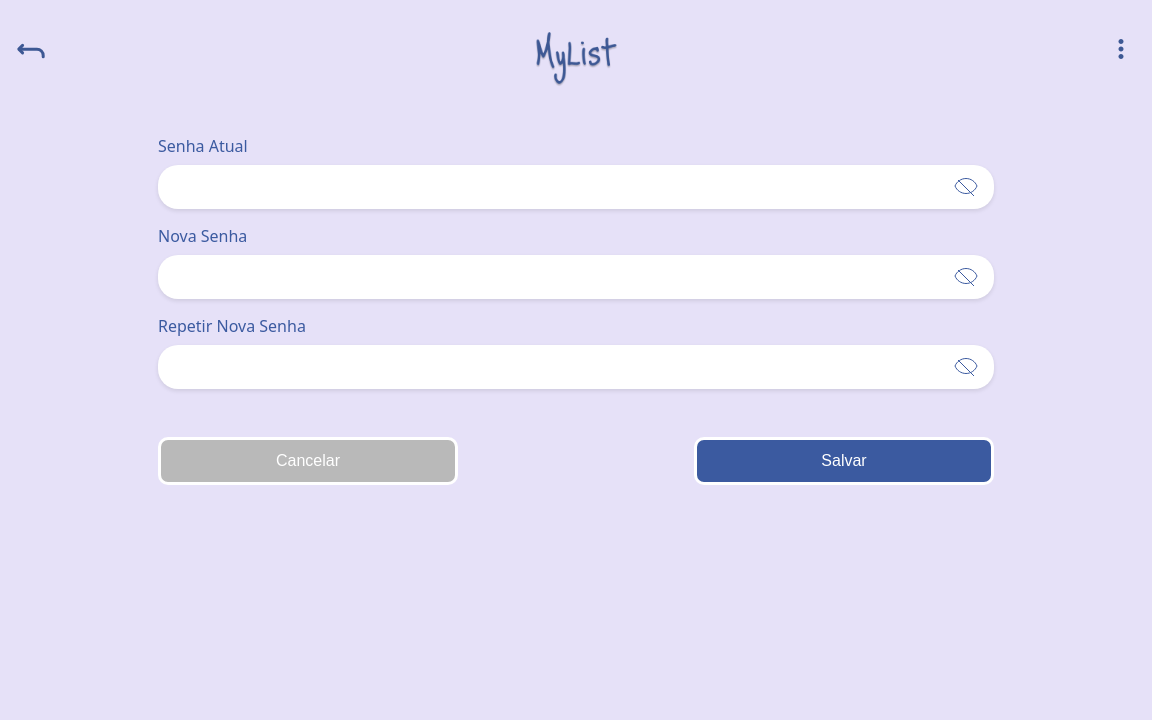
Test: ChangePasswordPage › shows success message on successful password change
Step 1. Type "oldpass" into the password field labelled "Senha Atual" → (576, 187), box [158, 165, 994, 209]
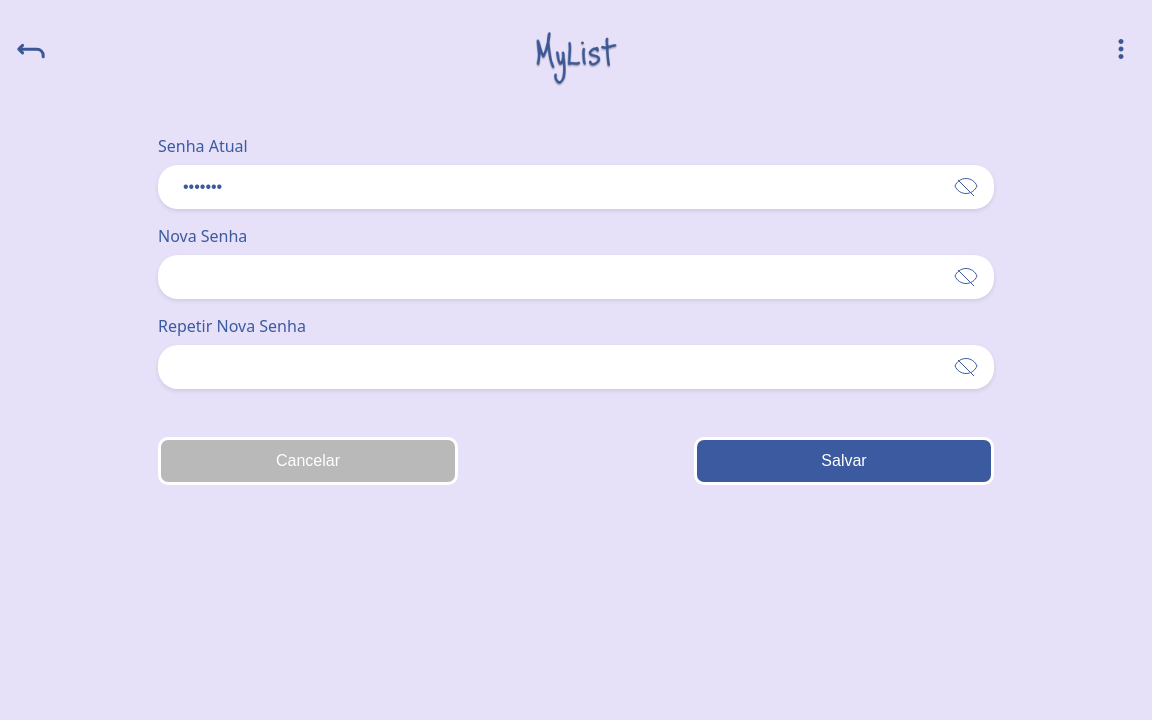
Step 2. Type "newpass" into the password field labelled "Nova Senha" → (576, 277), box [158, 255, 994, 299]
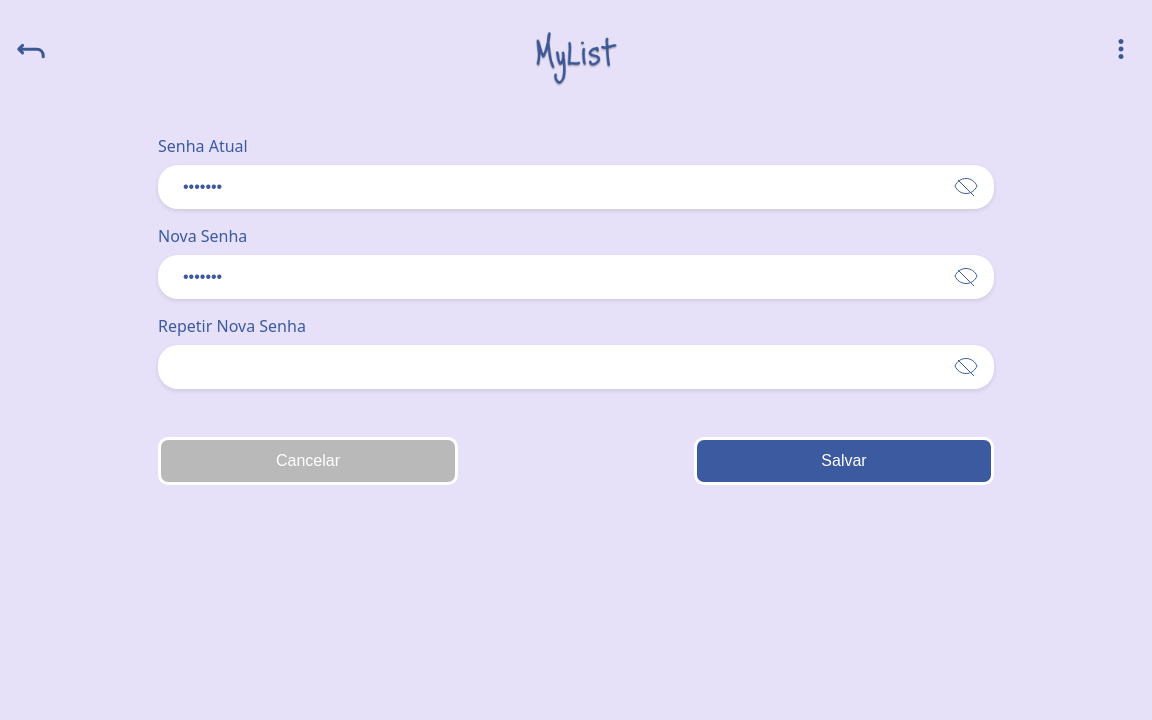
Step 3. Type "newpass" into the password field labelled "Repetir Nova Senha" → (576, 367), box [158, 345, 994, 389]
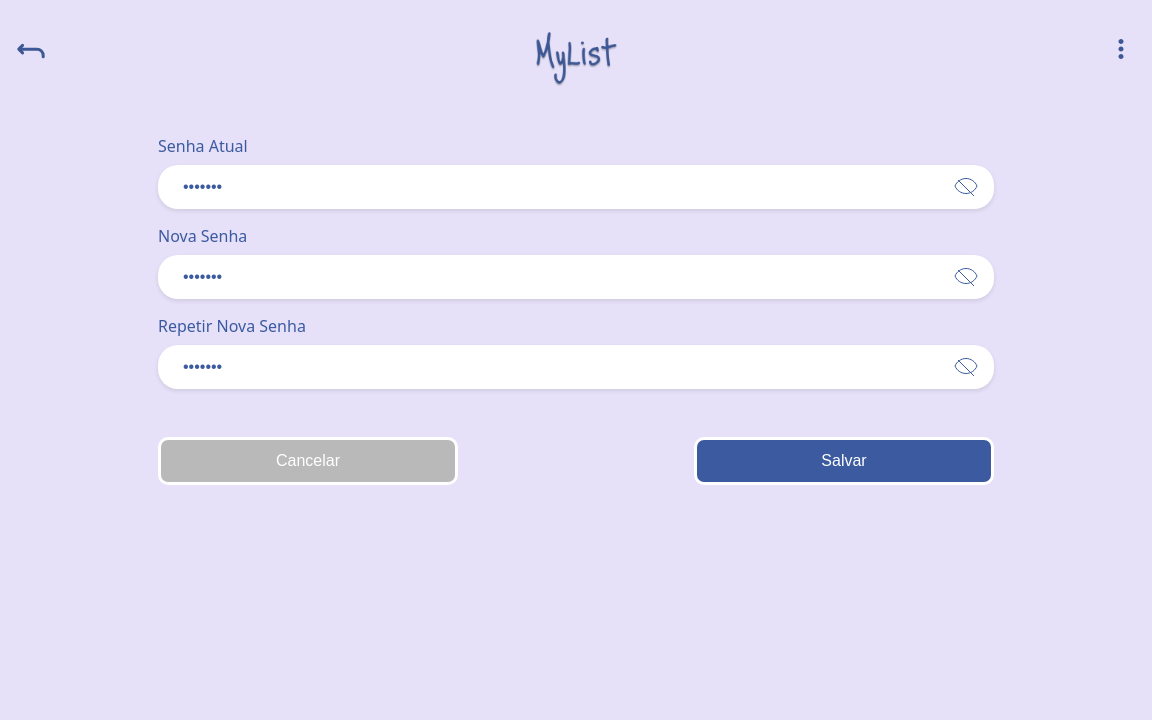
Step 4. Click the button "Salvar" → click(844, 461), box [694, 437, 994, 485]
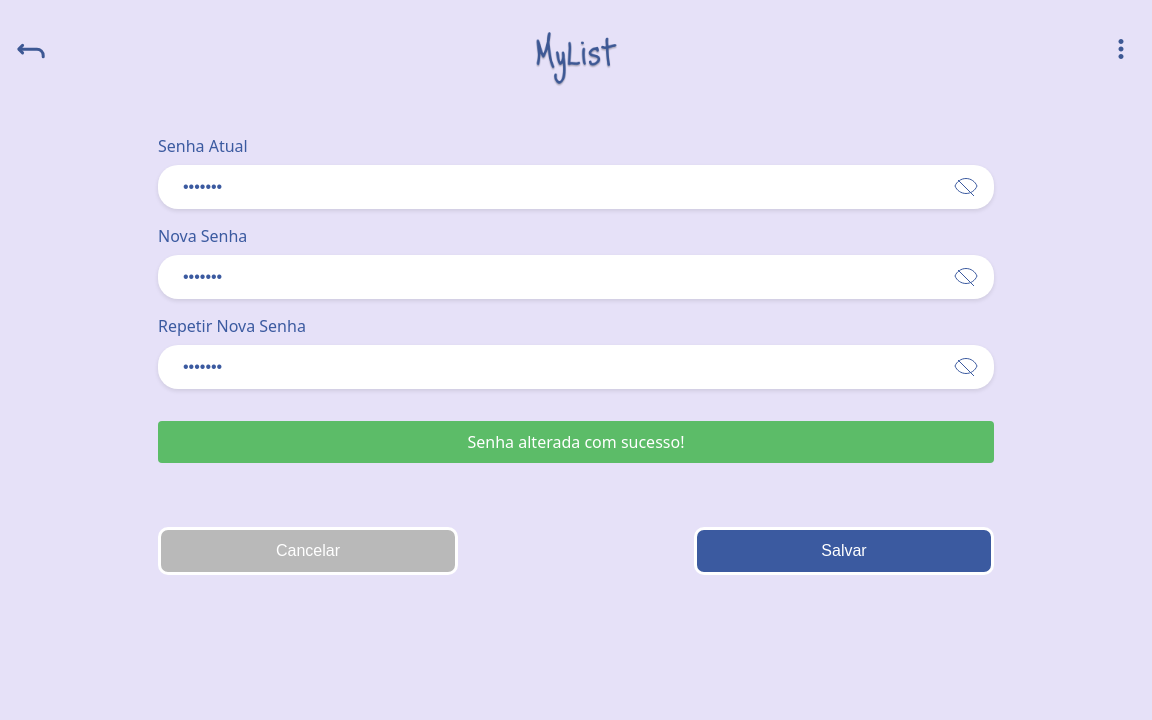
expect the text "Senha alterada com sucesso!" is shown: met, box [158, 421, 994, 463]
